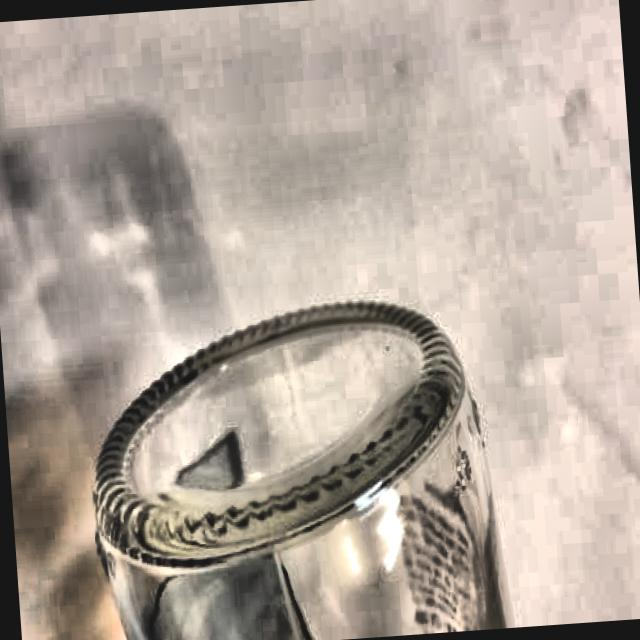glass: (73, 282, 517, 640)
